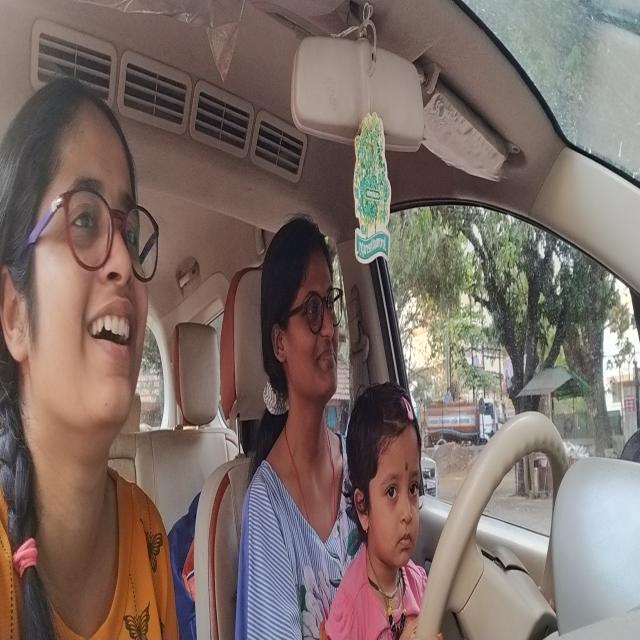child: (345, 375, 430, 579)
person: (0, 63, 165, 517), (255, 202, 348, 449)
